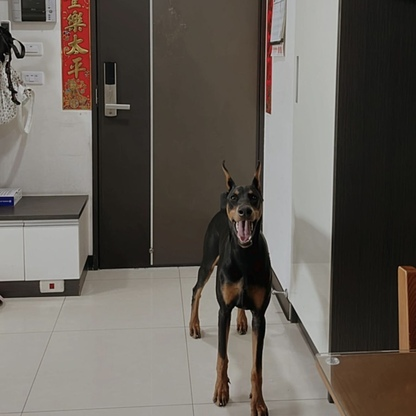doberman: (187, 155, 284, 416)
